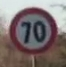limite 70: (8, 6, 57, 53)
